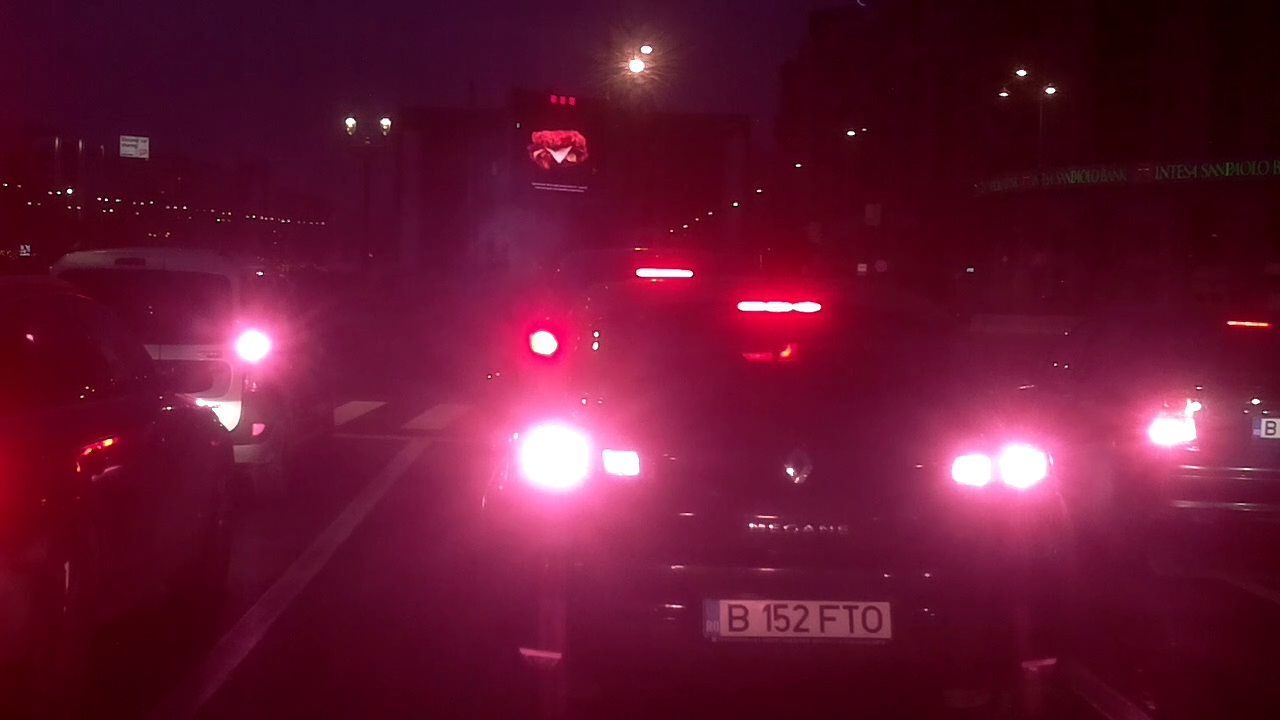license-plate: (694, 592, 898, 646)
